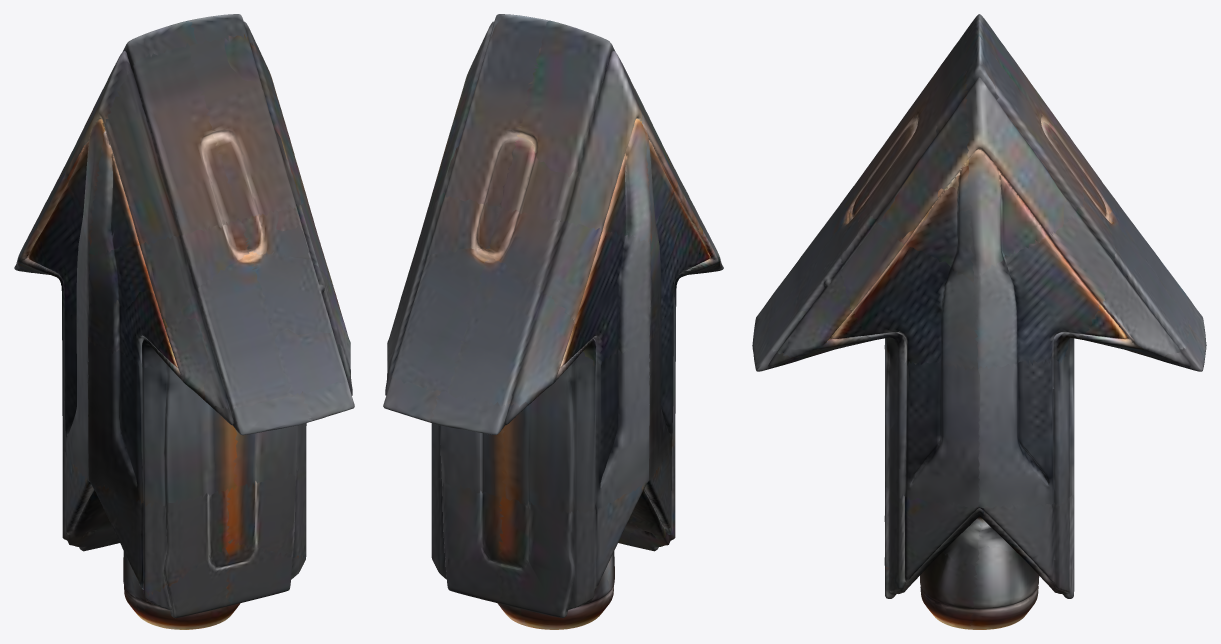
The picture shows the model from 3 angles, left to right: view 1: azimuth 30°, elevation 25°; view 2: azimuth 150°, elevation 25°; view 3: azimuth 270°, elevation 25°; orthographic projection. The views are drawn at different scales.
Parts seen in each view (by area): view 1: tripo_node_f0c7cea6-dcd1-43be-a3f2-0f5fb4d4bb6c; view 2: tripo_node_f0c7cea6-dcd1-43be-a3f2-0f5fb4d4bb6c; view 3: tripo_node_f0c7cea6-dcd1-43be-a3f2-0f5fb4d4bb6c.
Part boxes in pixels (x1,y1,x2,y2): tripo_node_f0c7cea6-dcd1-43be-a3f2-0f5fb4d4bb6c: (14,14,354,629); tripo_node_f0c7cea6-dcd1-43be-a3f2-0f5fb4d4bb6c: (383,14,723,629); tripo_node_f0c7cea6-dcd1-43be-a3f2-0f5fb4d4bb6c: (752,14,1206,629).
Bounding box in the file's own units: 0.3428 × 1 × 0.7139.
1 material, 1 textured.
